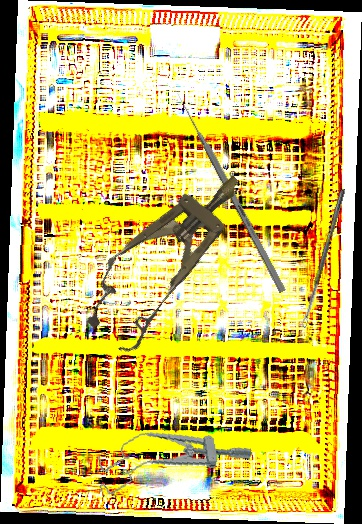Pusher: (174, 90, 287, 294)
Speculum: (68, 150, 268, 362), (90, 414, 255, 498)
Surgical Spoon: (300, 187, 346, 329)
